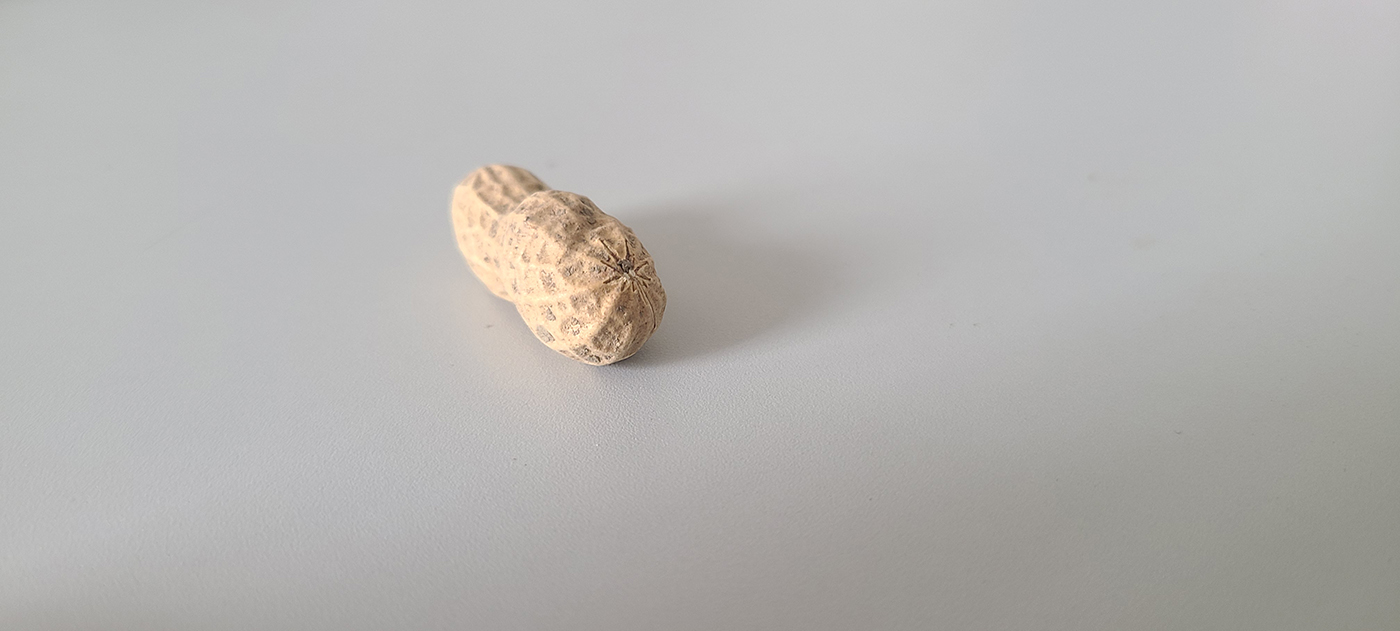h: (449, 162, 668, 367)
